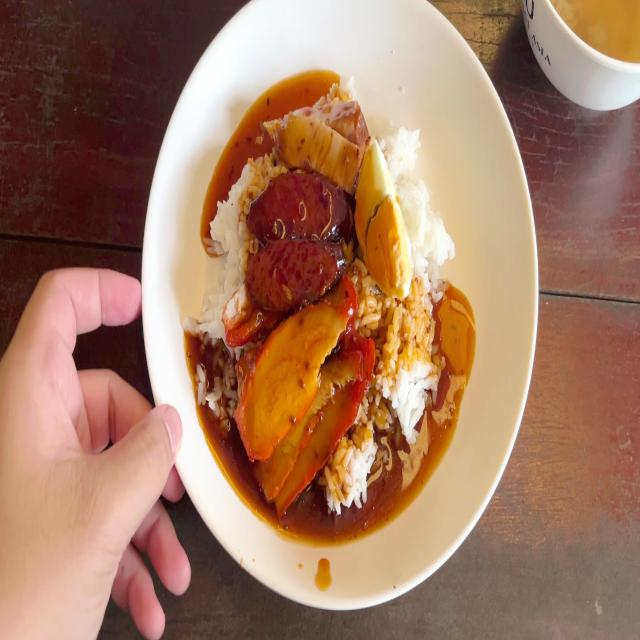boiled_egg: (356, 136, 412, 300)
chainese_sausage: (245, 173, 352, 301), (247, 165, 348, 240), (244, 240, 350, 292)
crispy_pork: (267, 99, 370, 185), (269, 110, 359, 181), (333, 98, 374, 137)
red_pork: (242, 287, 379, 500), (233, 294, 357, 454), (266, 335, 378, 508), (258, 346, 363, 494)
red_pork_and_crispy_pork: (186, 69, 455, 505)
rice: (381, 297, 437, 435), (207, 158, 254, 301), (334, 420, 383, 520), (418, 211, 458, 281), (182, 282, 222, 342), (392, 124, 423, 192), (398, 178, 433, 235)
